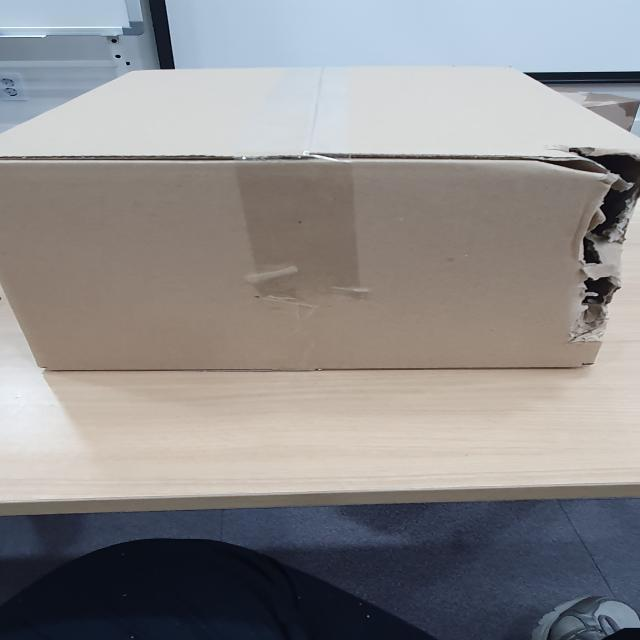hole: (551, 154, 640, 313)
